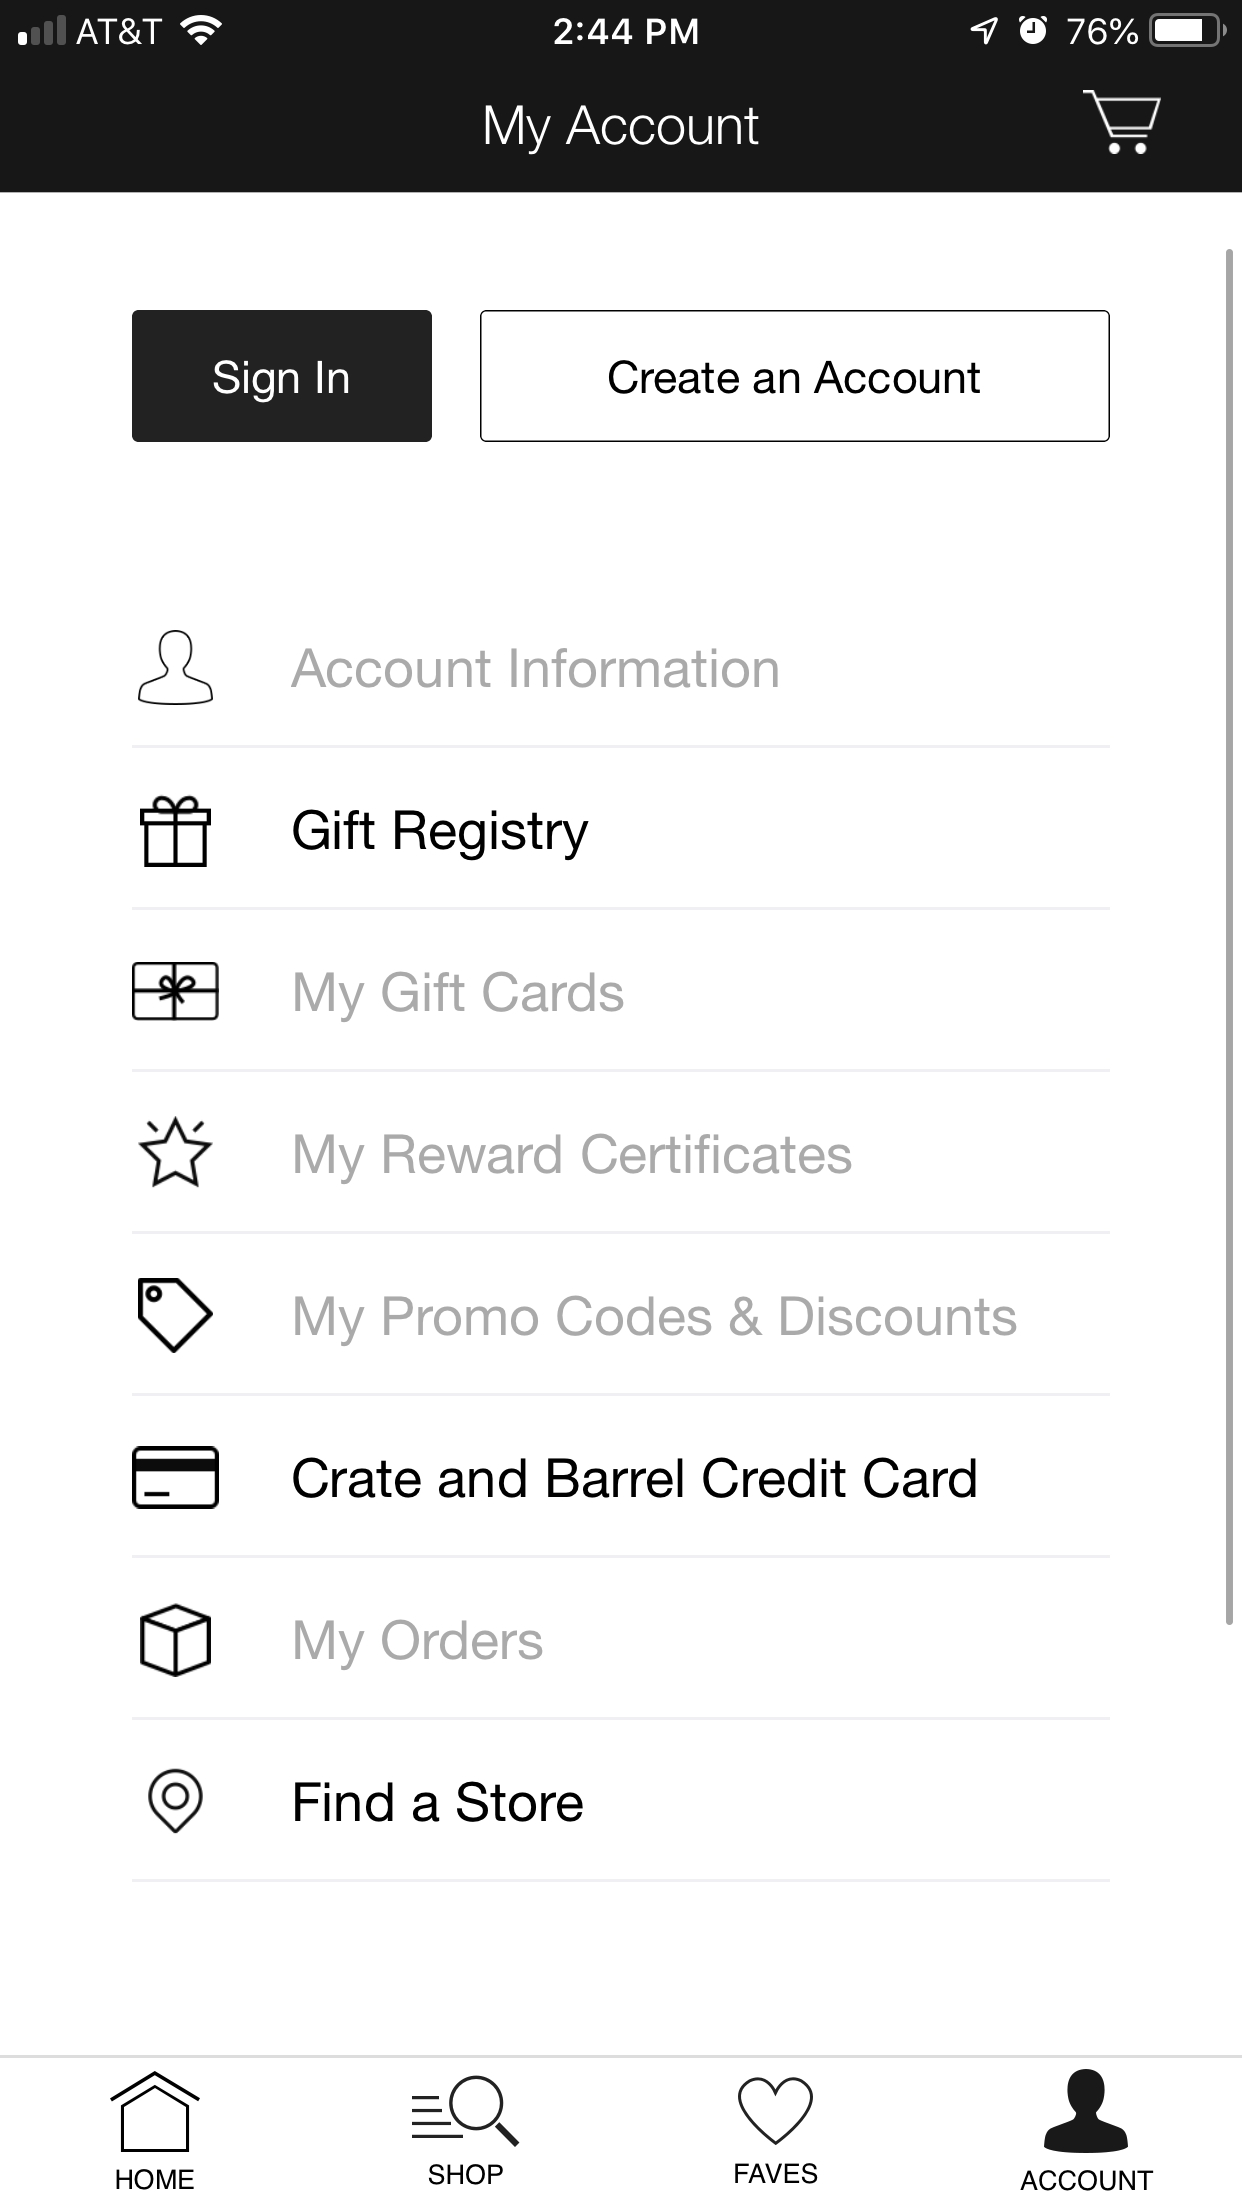Icon: (412, 2075, 522, 2147), (111, 2070, 202, 2153), (1043, 2068, 1128, 2153), (138, 629, 215, 707), (138, 1277, 215, 1354), (133, 1445, 221, 1510), (136, 1116, 214, 1189), (140, 795, 212, 869), (1081, 89, 1162, 156), (132, 961, 220, 1022), (737, 2078, 814, 2146), (149, 1768, 205, 1835)
Image: (140, 1603, 212, 1679)
Text: (294, 1295, 1018, 1347), (293, 1456, 977, 1498), (294, 1133, 852, 1184), (291, 648, 779, 688), (296, 971, 625, 1024), (293, 808, 590, 861), (485, 105, 760, 156), (294, 1618, 543, 1671), (296, 1780, 584, 1823), (1019, 2169, 1154, 2191), (734, 2163, 817, 2185), (115, 2169, 196, 2190), (429, 2163, 503, 2185)
TextButton: (481, 311, 1112, 444), (132, 309, 434, 443)
UpperTaskBar: (2, 2, 1242, 49)
